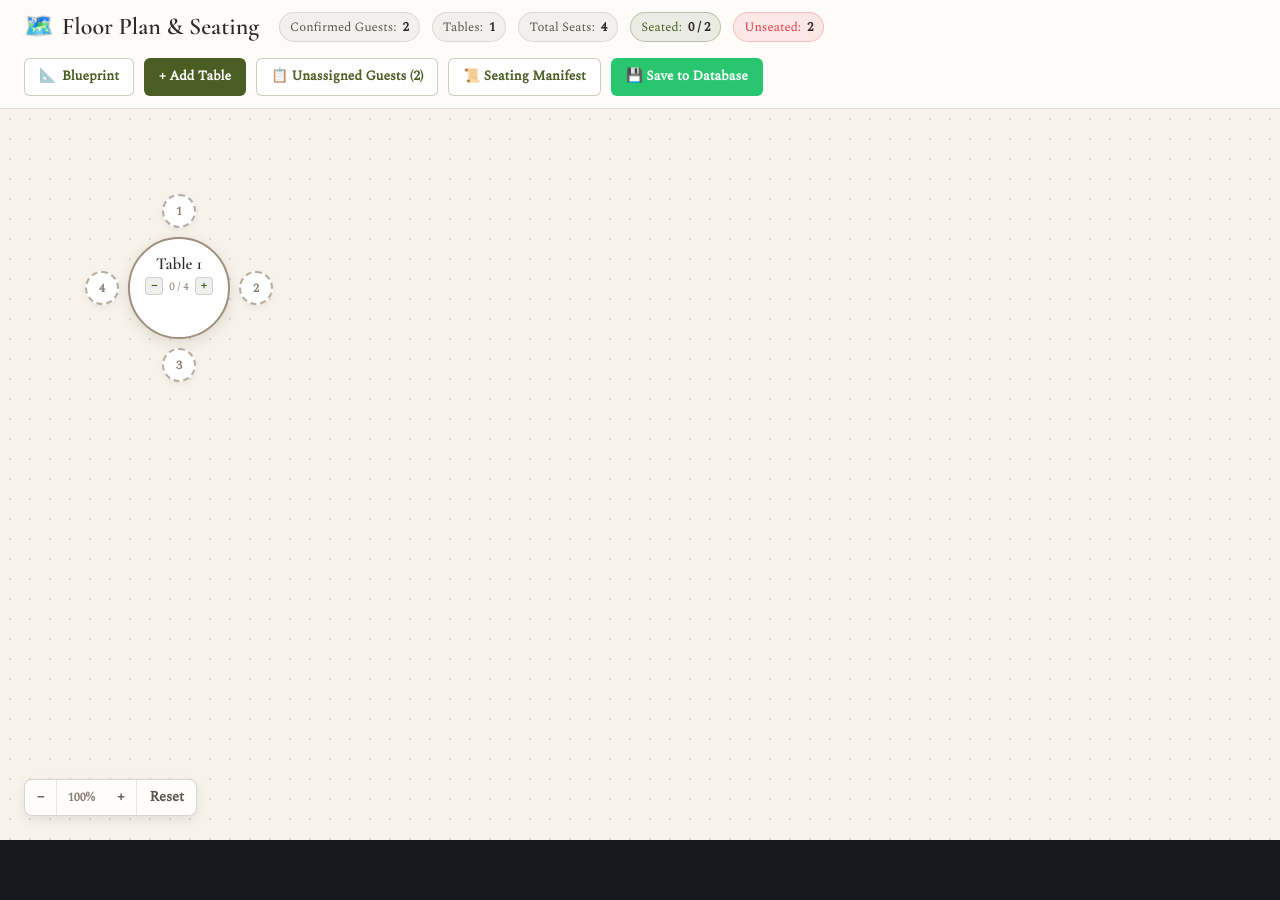
it: FloorPlanView Component › allows clicking a seat to assign a confirmed guest and updates the stats
This screenshot has width=1280, height=900.
Click seat to open assignment modal
Click the button "1".
click(179, 211)  # box x1=162 y1=194 x2=196 y2=228
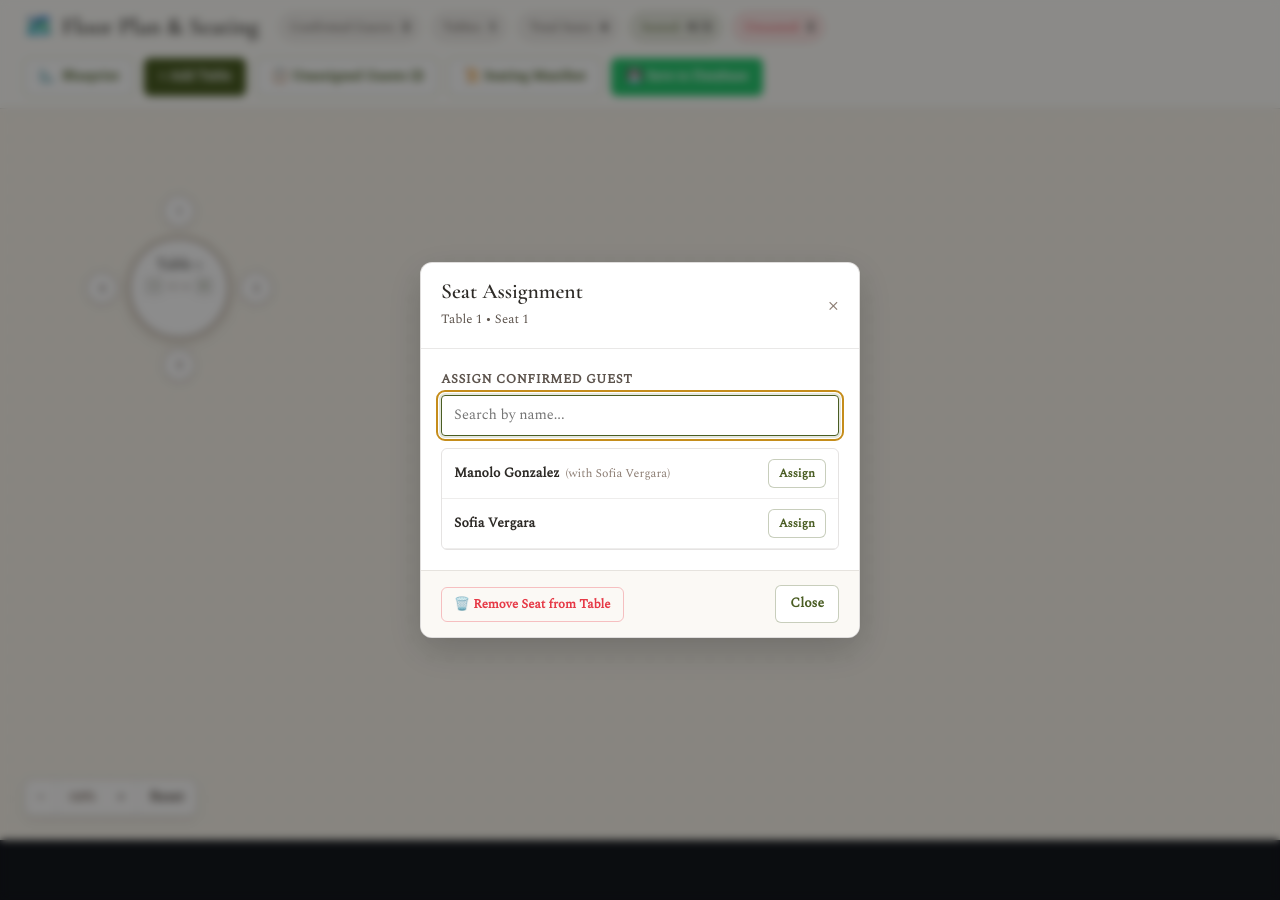
Expected: the heading "Seat Assignment" is shown, x1=441 y1=279 x2=583 y2=305
Expected: the text "Sofia Vergara" is shown
Assign Sofia Vergara
Click the text "Sofia Vergara".
click(495, 524)  # box x1=454 y1=513 x2=535 y2=535
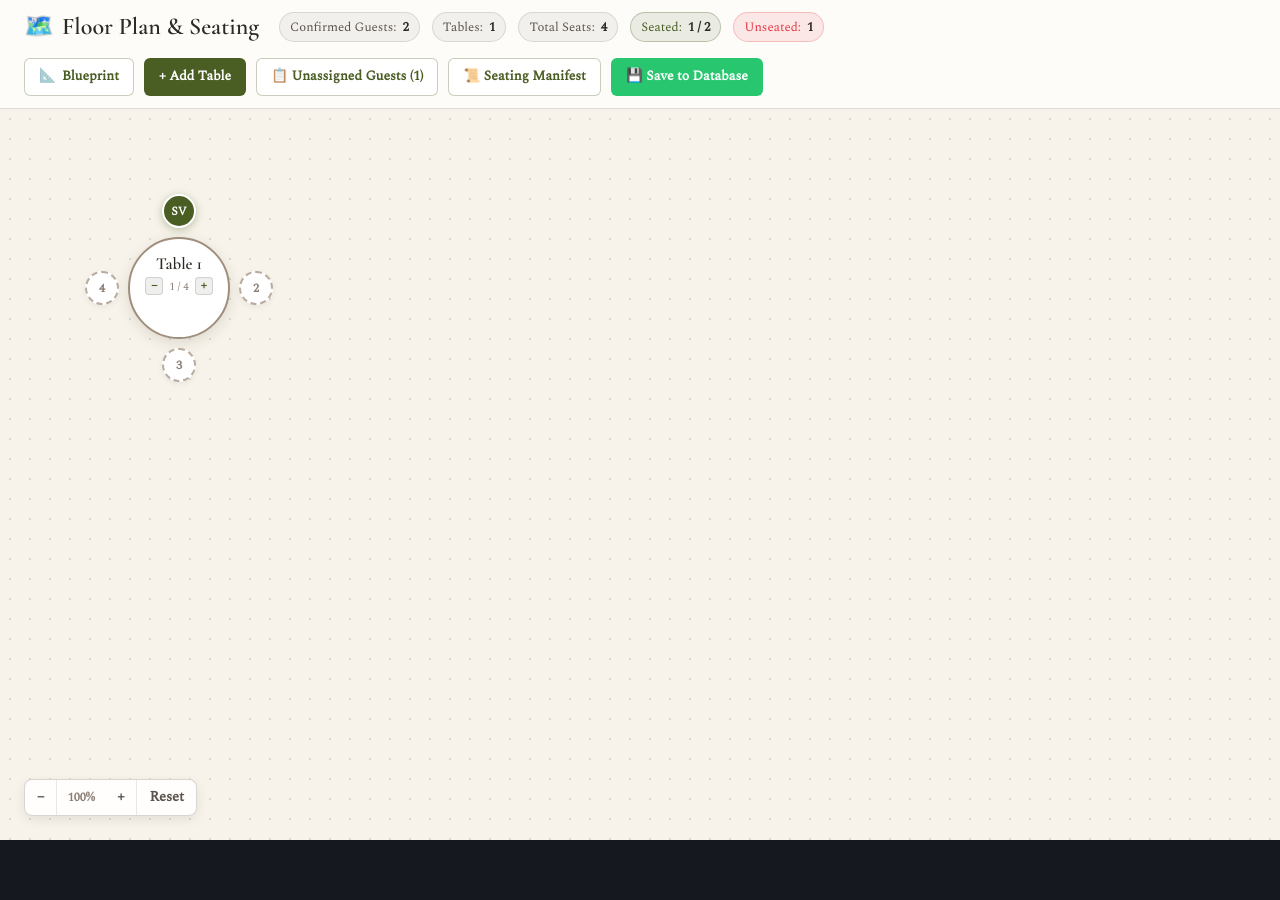
Expected: the heading "Seat Assignment" is gone
